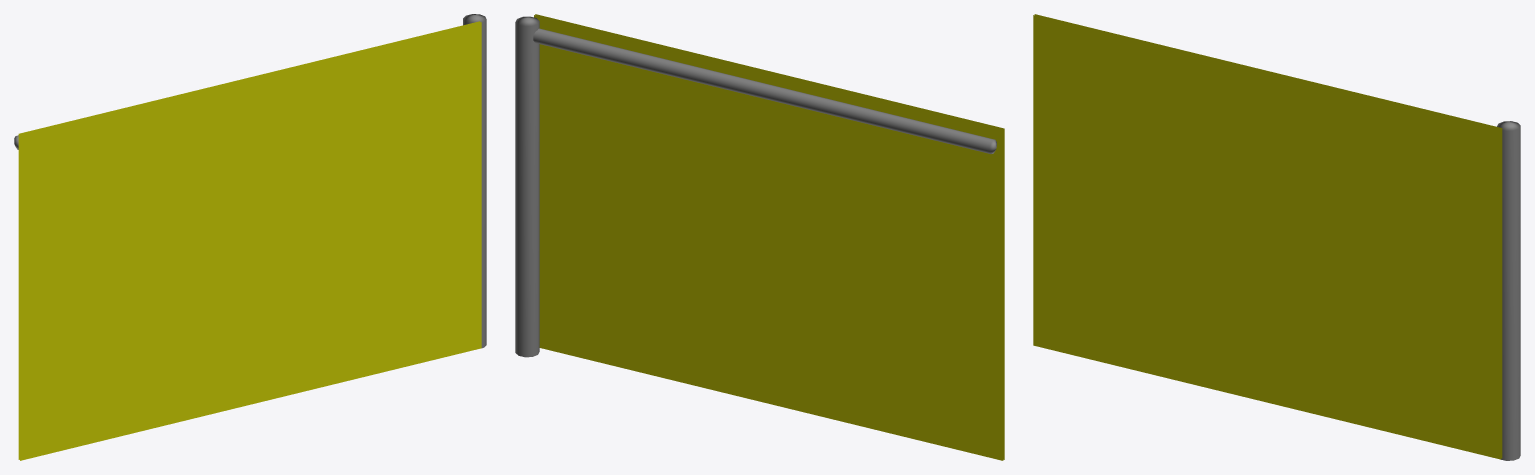
The model's file is chainfence1.fbx.
3 renders of one model, left to right at view 1: azimuth 30°, elevation 25°; view 2: azimuth 150°, elevation 25°; view 3: azimuth 330°, elevation 25°, orthographic.
Visible parts, largest first — view 1: pPlane5; view 2: pPlane5; view 3: pPlane5.
Boxes of the visible parts, bbox=[...] form: pPlane5: bbox=[14, 14, 486, 460]; pPlane5: bbox=[515, 14, 1004, 460]; pPlane5: bbox=[1033, 14, 1520, 460].
Bounding box in the file's own units: 1.98 × 1.32 × 0.0933.
